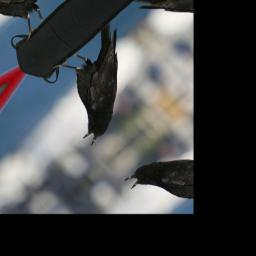Crow: (29, 16, 168, 149)
